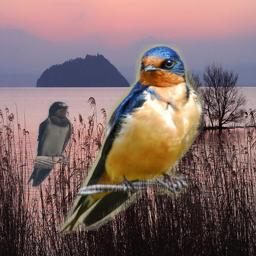Swallow: (58, 44, 204, 235), (26, 101, 72, 188)
